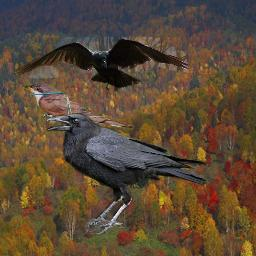Crow: (46, 113, 210, 234), (13, 37, 189, 98)
Cuckoo: (21, 80, 136, 136)
